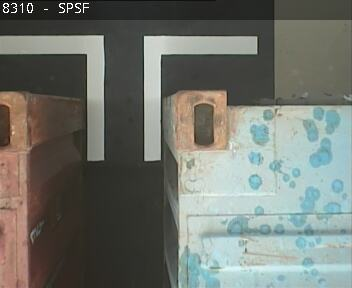groundmarker_1: (1, 34, 258, 161)
